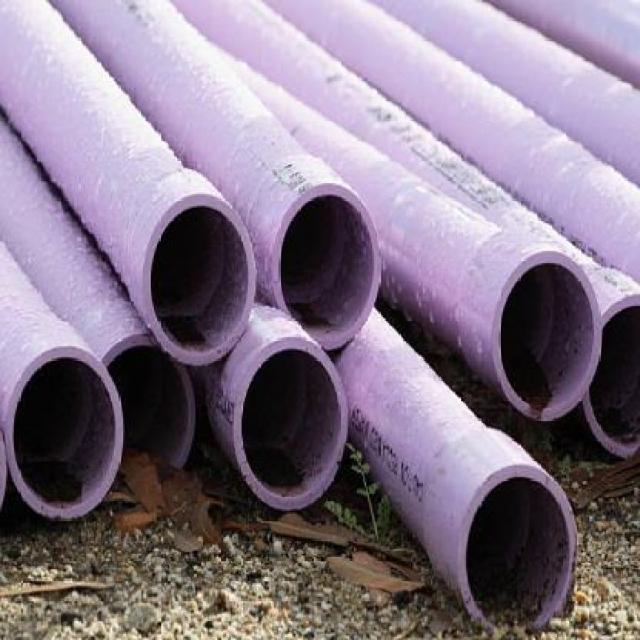pipe: (5, 345, 124, 519), (234, 338, 349, 509), (459, 463, 576, 631), (142, 193, 256, 364), (491, 251, 602, 422), (272, 183, 381, 349), (100, 332, 196, 468), (581, 292, 640, 457)
